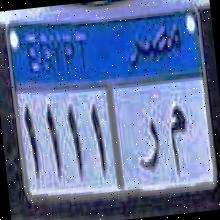1: (62, 92, 89, 185), (86, 97, 112, 182), (40, 101, 66, 184), (19, 102, 44, 182)
meem: (162, 98, 194, 186)
raa: (131, 109, 163, 178)
